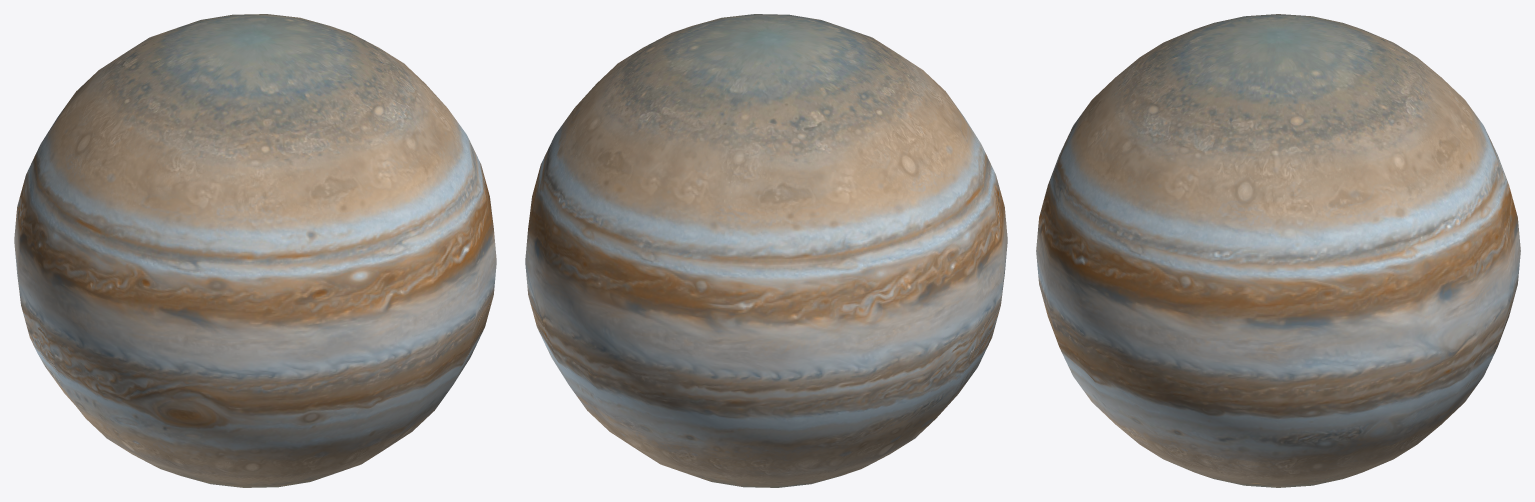
Rendered from Jupiter.fbx.
The picture shows the model from 3 angles, left to right: view 1: azimuth 30°, elevation 25°; view 2: azimuth 150°, elevation 25°; view 3: azimuth 270°, elevation 25°; orthographic projection.
Visible parts, largest first — view 1: Jupiter; view 2: Jupiter; view 3: Jupiter.
Boxes of the visible parts, x1=… form: Jupiter: x1=14, y1=14, x2=496, y2=487; Jupiter: x1=525, y1=14, x2=1007, y2=487; Jupiter: x1=1036, y1=14, x2=1520, y2=487.
Size of the model in its own units: 281 by 273 by 281.
1 material, 1 textured.
